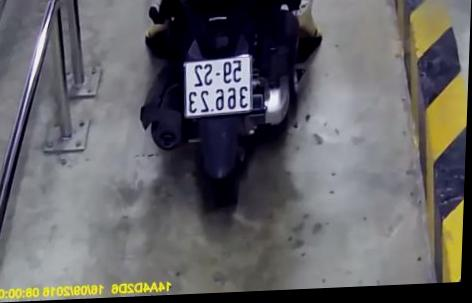License_Plate: (178, 49, 260, 123)
